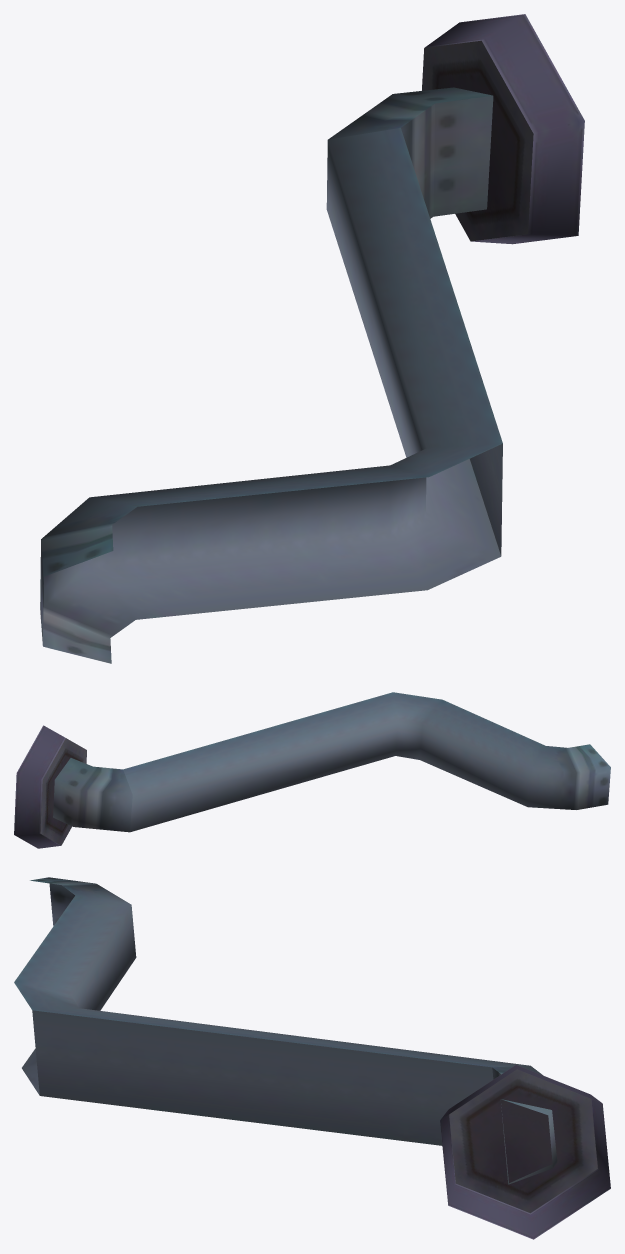
File: water_pipe_26_8dd43ee6__zombies2_diffuse_07_65562b6b_c1f257.obj
3 views of the same model, one above another, from view 1: azimuth 30°, elevation 25°; view 2: azimuth 150°, elevation 25°; view 3: azimuth 270°, elevation 25° (orthographic). The views are drawn at different scales.
Size of the model in its own units: 5.49 by 1.54 by 4.87.
1 material, 1 textured.
